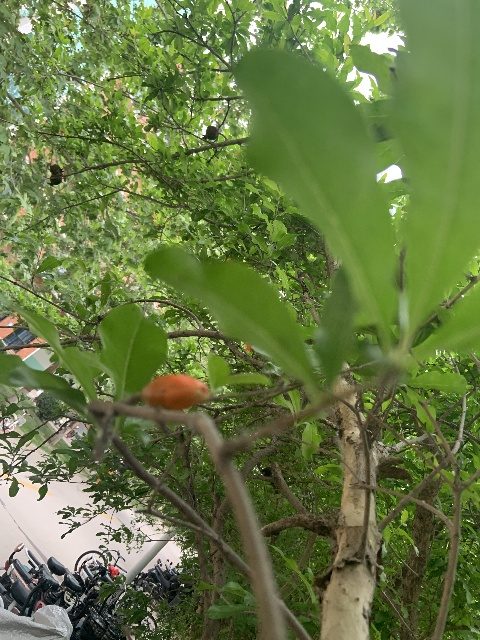bud: (140, 374, 209, 411)
flower: (244, 343, 252, 352)
